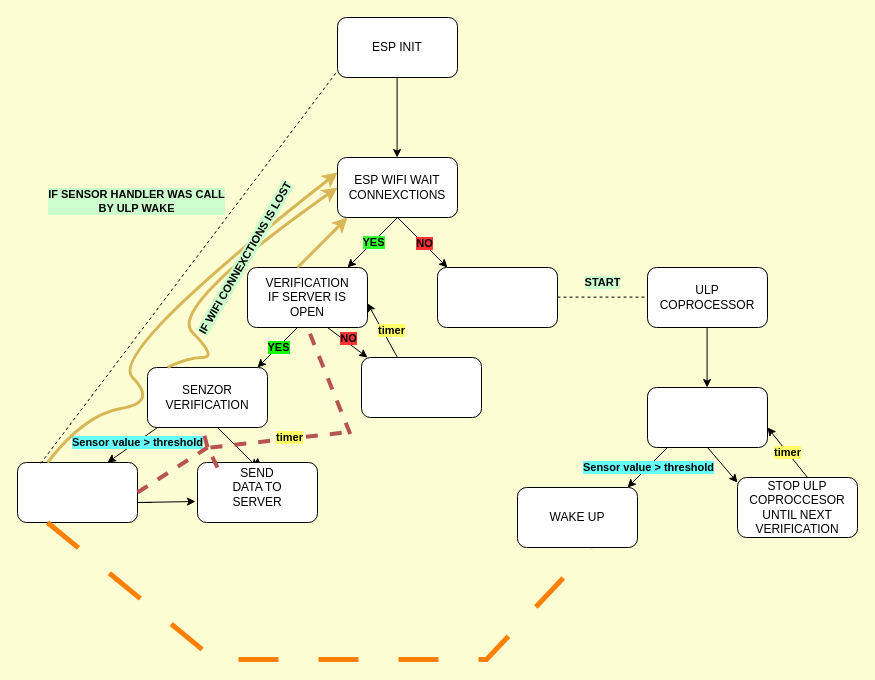
The diagram is 875 pixels wide and 680 high, and some of its shapes have lost their labels. The shapes that lost their labels are listed below. From the top down, each one's centre as x and y in pixels, then its label:
At point (497, 297): "DEEP SLEEP CONFIGURATION".
At point (421, 387): "WAIT FOR SERVER CONNEXCTIONS".
At point (707, 417): "SENSOR VERIFICATION".
At point (77, 492): "SENSOR HANDLER".
